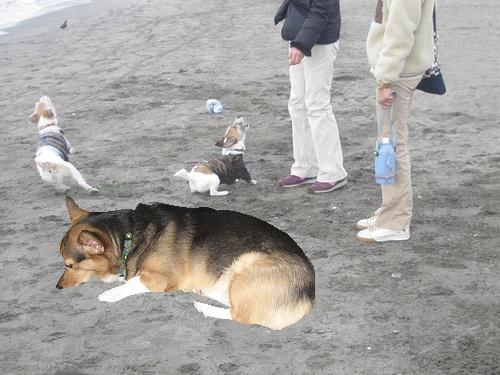tampered: (57, 195, 315, 330)
